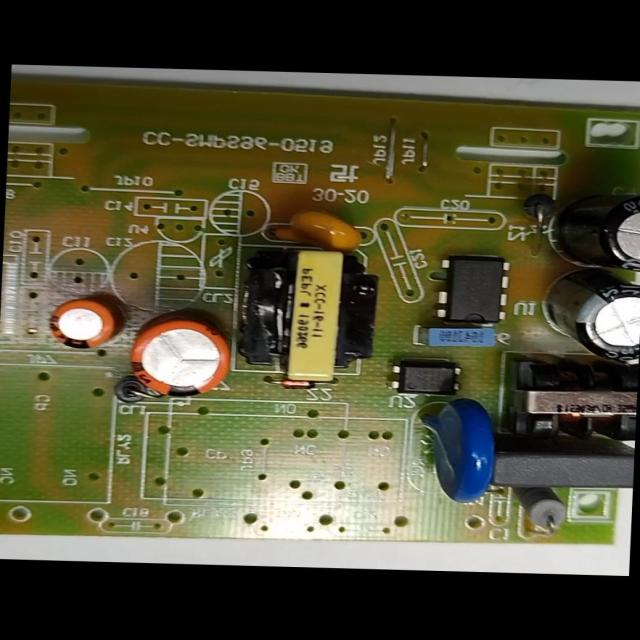Cap1: (120, 316, 237, 401)
Cap2: (42, 296, 124, 358)
Cap3: (540, 272, 639, 362)
Cap4: (549, 191, 639, 274)
MOSFET: (434, 251, 514, 327)
Mov: (411, 397, 503, 507)
Resistor: (507, 482, 569, 536)
Transformer: (233, 245, 384, 386), (499, 357, 637, 446)
